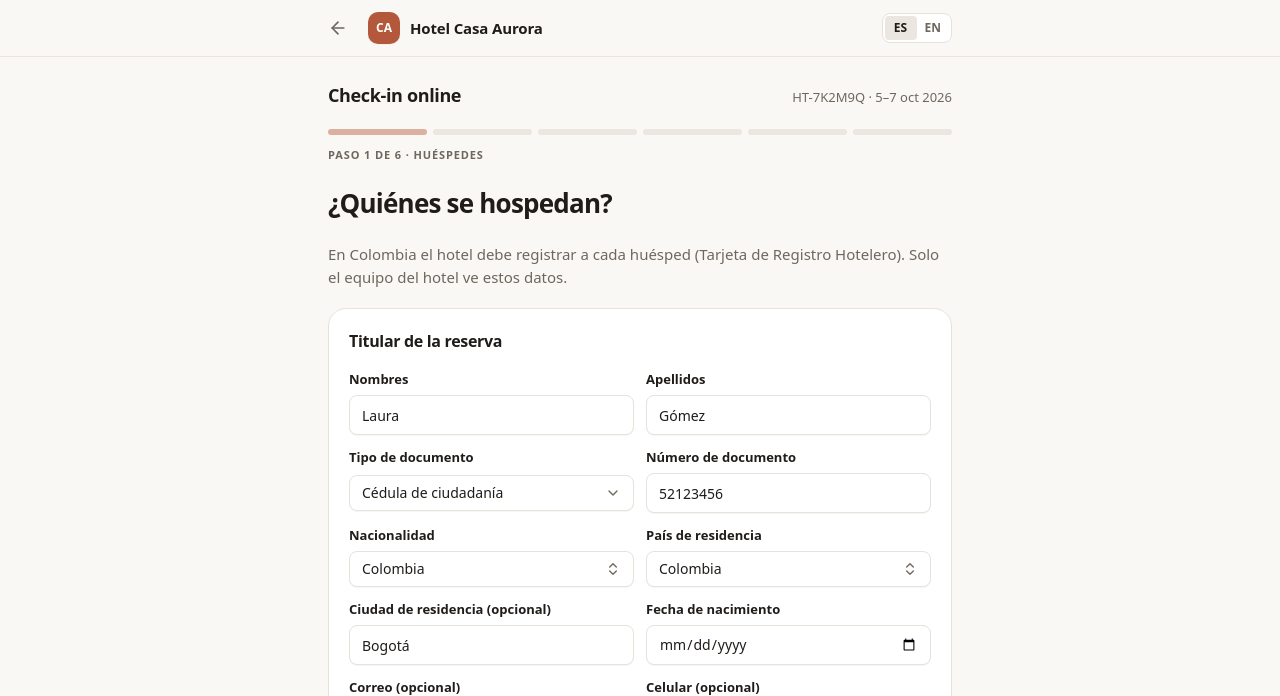
Scenario: CheckinPage — guests › saves the booker and the companion and moves on to the documents
Step 1. Type "1990-04-02" into the date field labelled "Fecha de nacimiento" → (788, 645), box [646, 625, 931, 665]
(page scrolled)
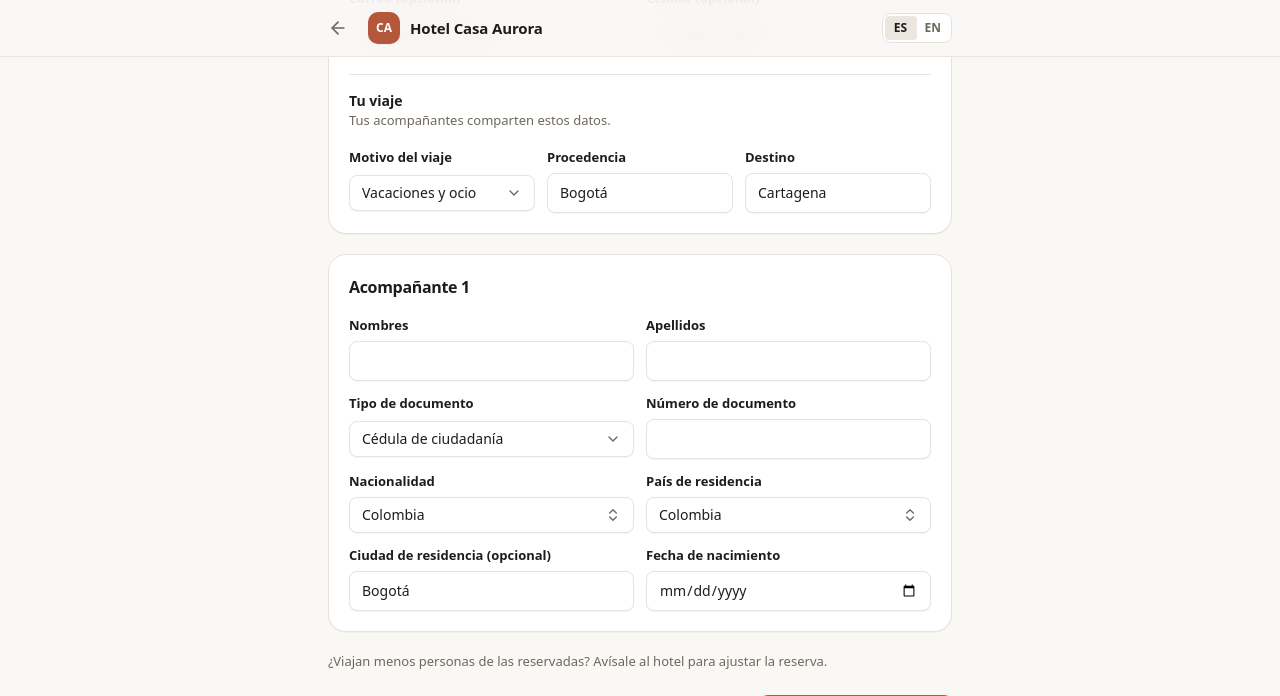
Step 2. Type "Ana María" into the field labelled "Nombres" → (492, 360), box [349, 340, 634, 380]
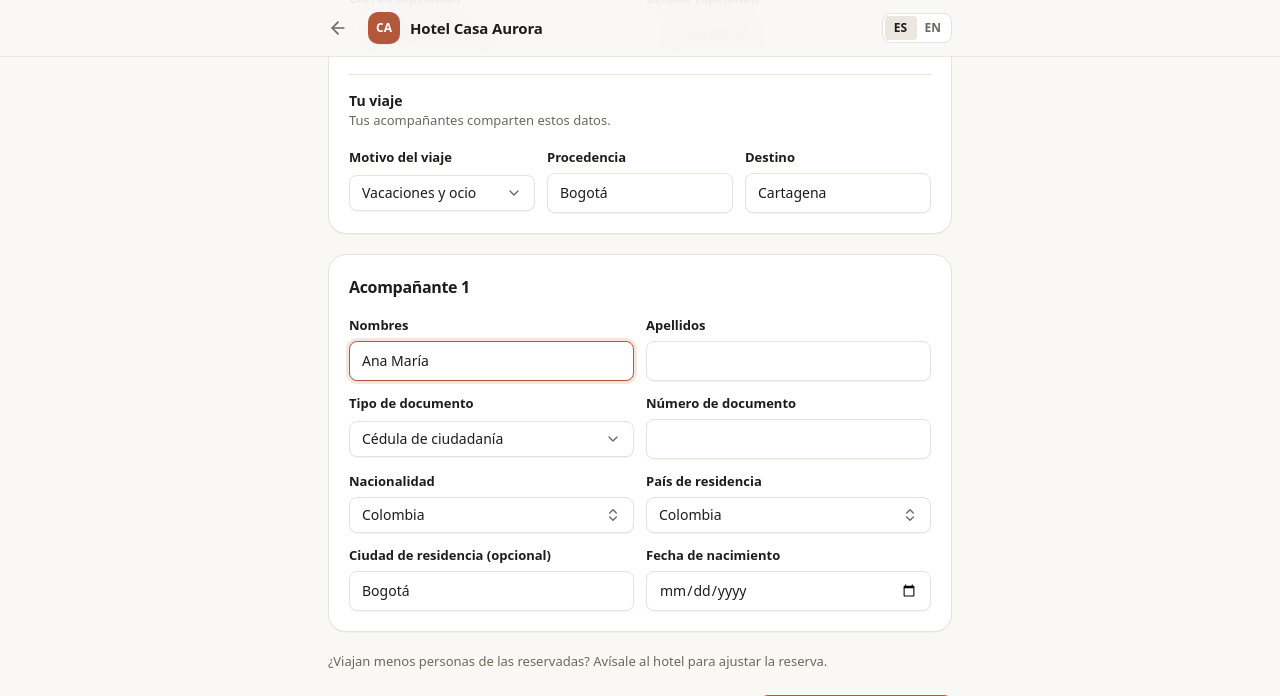
Step 3. Type "Pérez" into the field labelled "Apellidos" → (788, 360), box [646, 340, 931, 380]
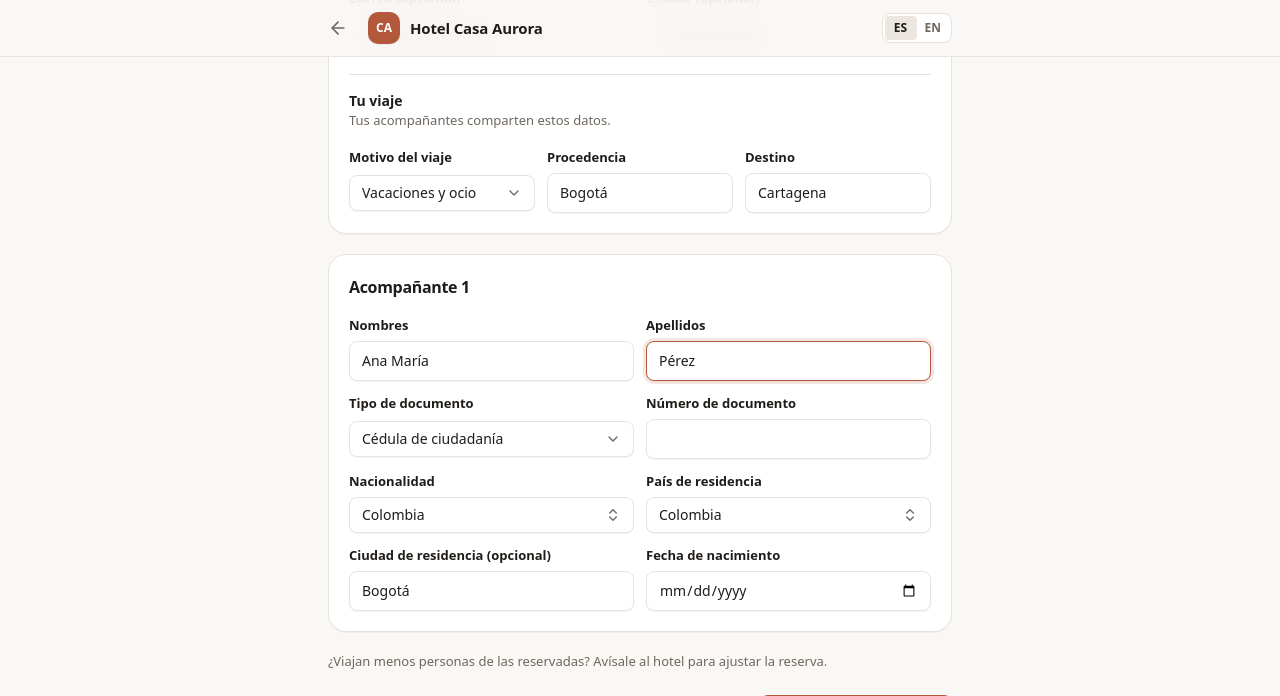
Step 4. Type "1020304050" into the field labelled "Número de documento" → (788, 438), box [646, 418, 931, 458]
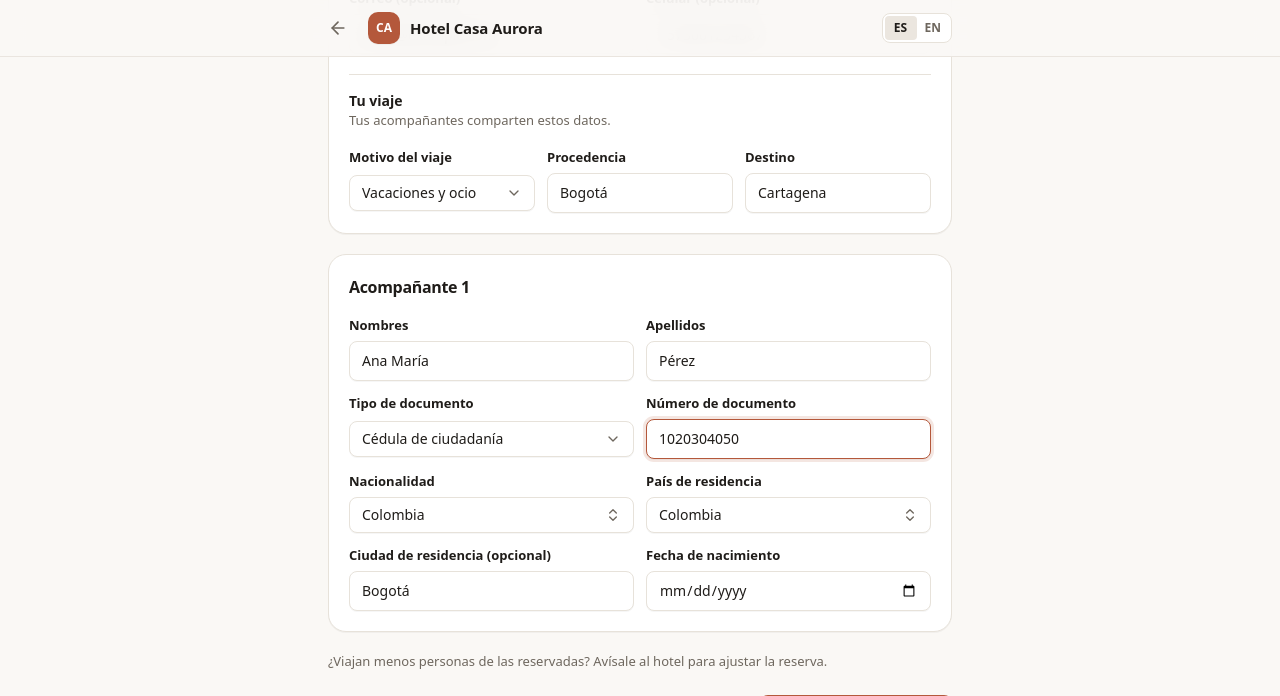
Step 5. Type "1992-06-15" into the date field labelled "Fecha de nacimiento" → (788, 590), box [646, 570, 931, 610]
(page scrolled)
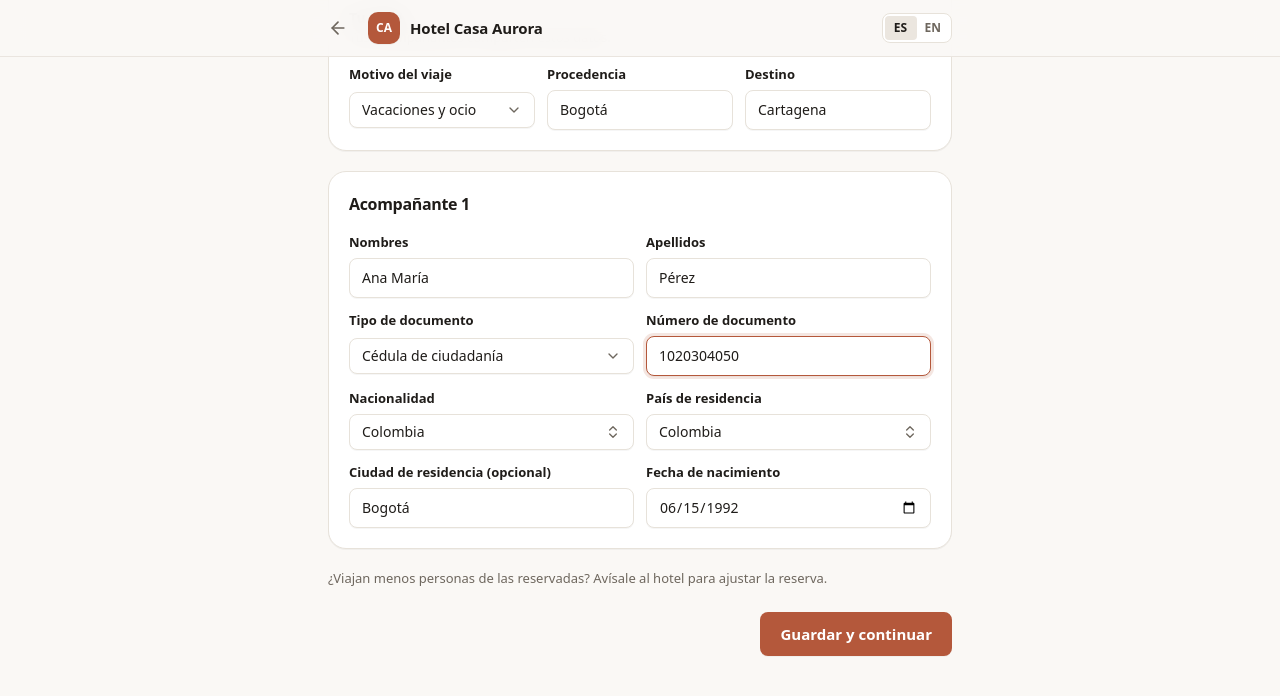
Step 6. Click the button "Guardar y continuar" → (856, 634), box [760, 612, 952, 656]
(page scrolled)
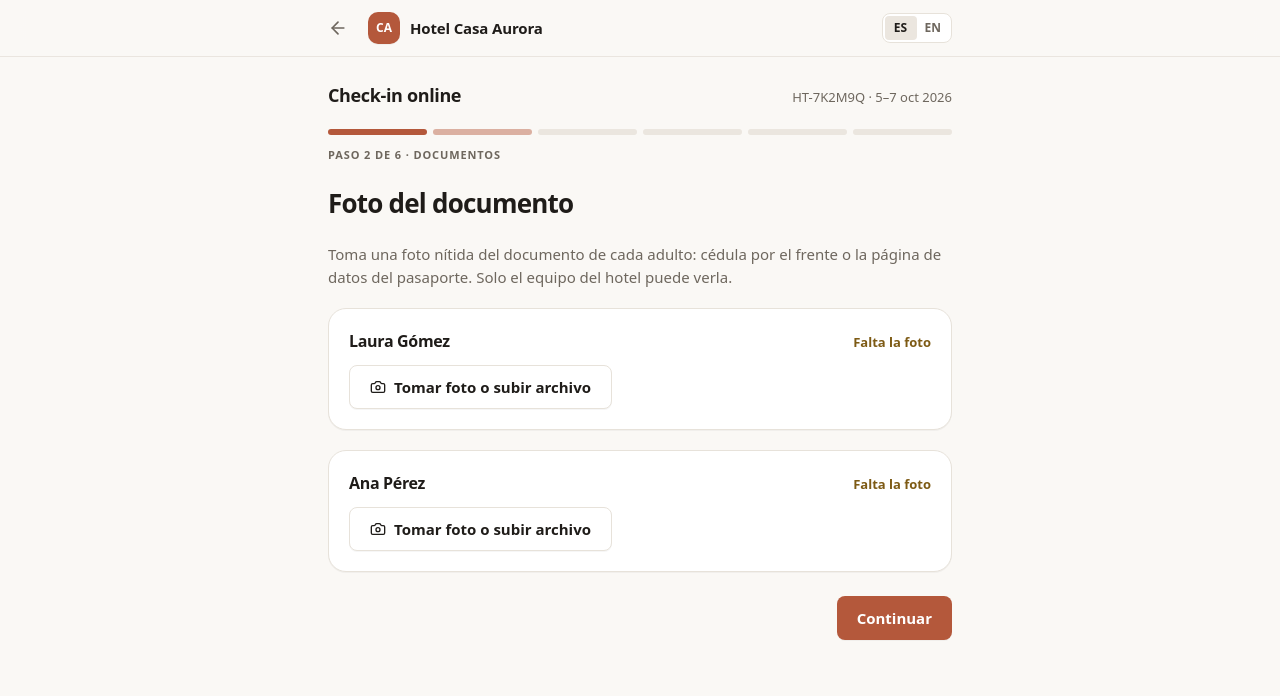
Check: the heading "Foto del documento" is shown, box [328, 185, 573, 221]
